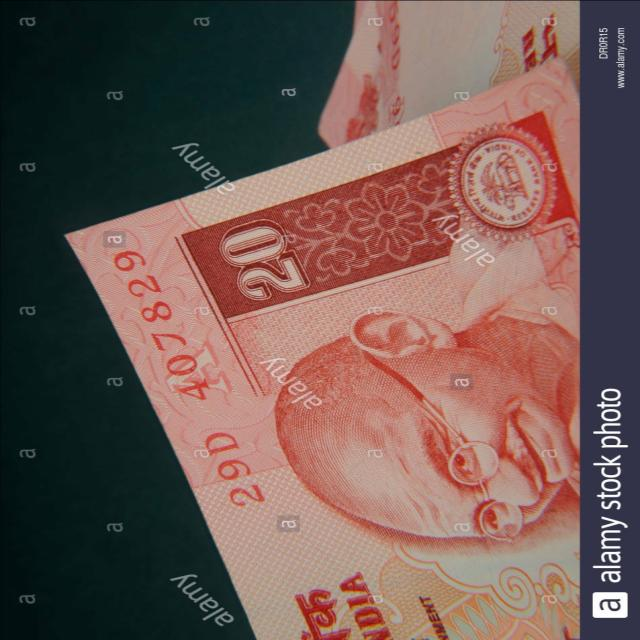20IndianRupees: (63, 70, 577, 640)
